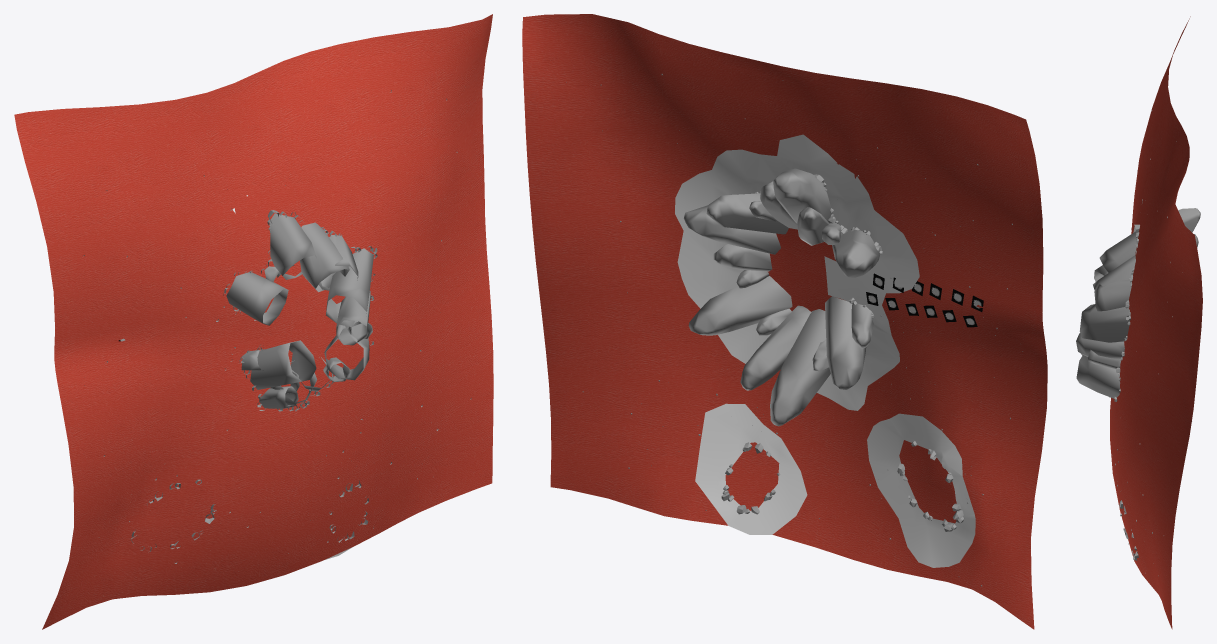
Rendered from Ground002.obj.
3 views of the same model, side by side, from view 1: azimuth 30°, elevation 25°; view 2: azimuth 150°, elevation 25°; view 3: azimuth 270°, elevation 25° (orthographic). The views are drawn at different scales.
Visible parts, largest first — view 1: pPlane138__GroundSandRed00_rep, polySurface595__SandIcePillar00, B2_grp1_group1114_polySurface766_1__PillarIceBig01; view 2: pPlane138__GroundSandRed00_rep, shape0__Frost00, polySurface595__SandIcePillar00, B2_grp1_group1114_polySurface766_1__PillarIceBig01, ashiParts0104__KoopaFootPrint; view 3: pPlane138__GroundSandRed00_rep, polySurface595__SandIcePillar00, B2_grp1_group1114_polySurface766_1__PillarIceBig01.
Boxes of the visible parts, x1,y1,x2,y2 form: pPlane138__GroundSandRed00_rep: [14, 14, 493, 629]; polySurface595__SandIcePillar00: [226, 213, 373, 408]; B2_grp1_group1114_polySurface766_1__PillarIceBig01: [83, 90, 471, 563]; pPlane138__GroundSandRed00_rep: [522, 14, 1047, 629]; shape0__Frost00: [675, 134, 975, 567]; polySurface595__SandIcePillar00: [684, 168, 879, 426]; B2_grp1_group1114_polySurface766_1__PillarIceBig01: [566, 74, 1022, 586]; ashiParts0104__KoopaFootPrint: [866, 273, 983, 327]; pPlane138__GroundSandRed00_rep: [1110, 16, 1202, 629]; polySurface595__SandIcePillar00: [1076, 208, 1200, 421]; B2_grp1_group1114_polySurface766_1__PillarIceBig01: [1109, 110, 1182, 576].
Bounding box in the file's own units: 9366 × 9402 × 2442.
6 materials, 3 textured.
